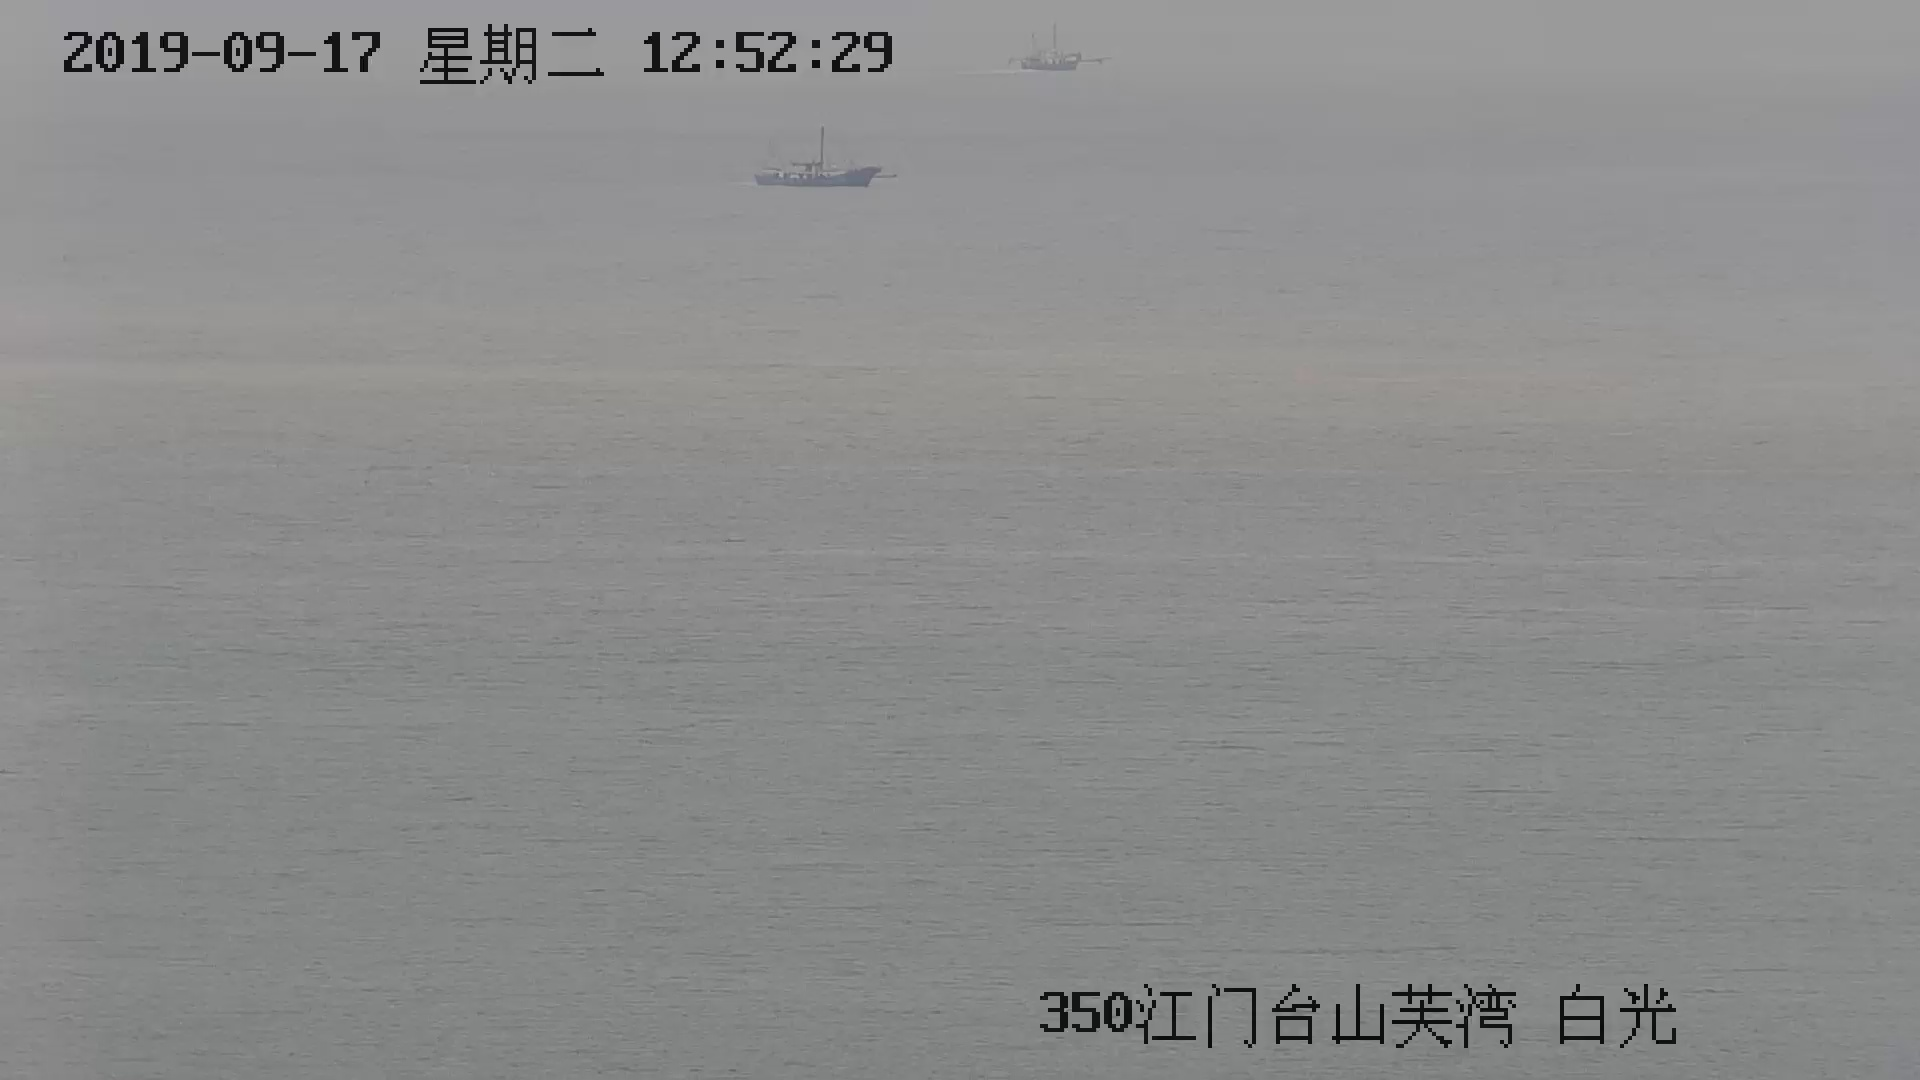ship: (752, 127, 884, 190), (1011, 20, 1112, 73)
